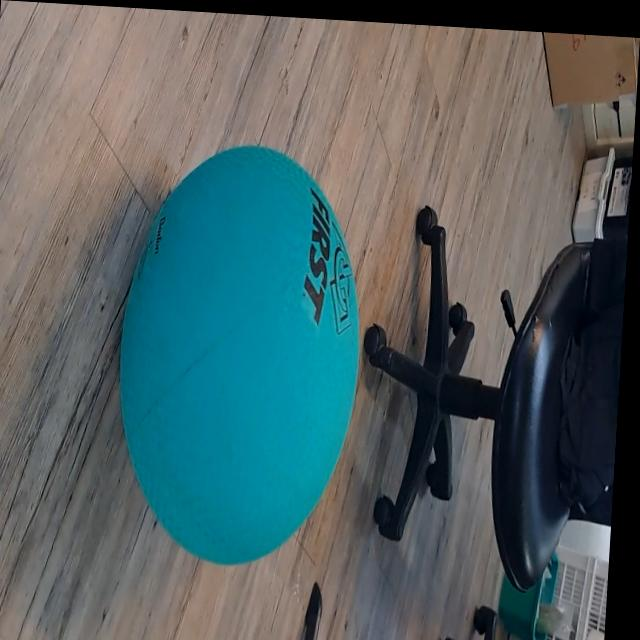ALGAE: (106, 134, 373, 574)
